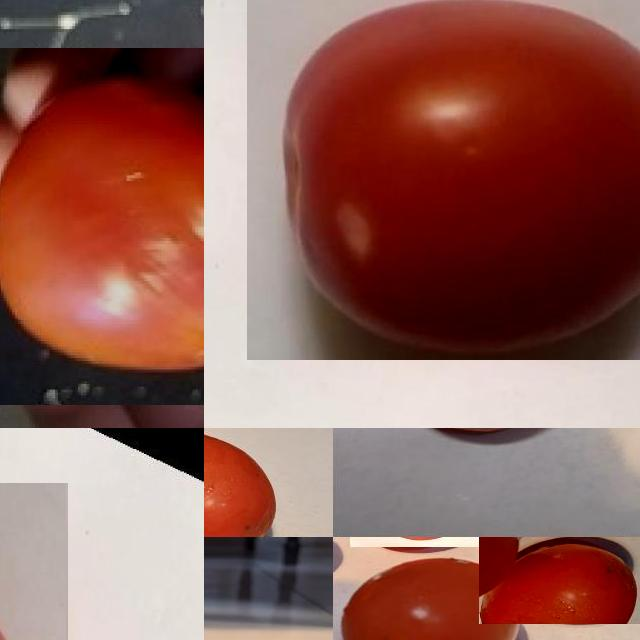1: (0, 48, 204, 405)
Fresh Tomato: (247, 0, 640, 360), (336, 553, 528, 640), (479, 537, 640, 624), (0, 483, 68, 640)
